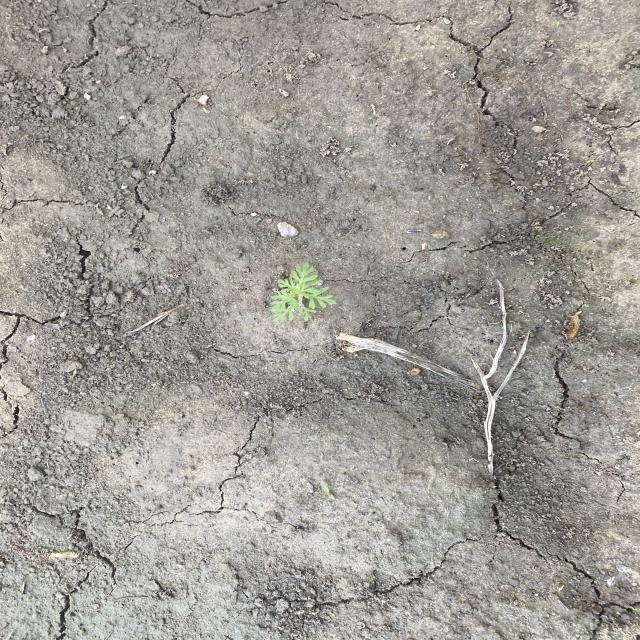Ragweed: (267, 260, 339, 324)
